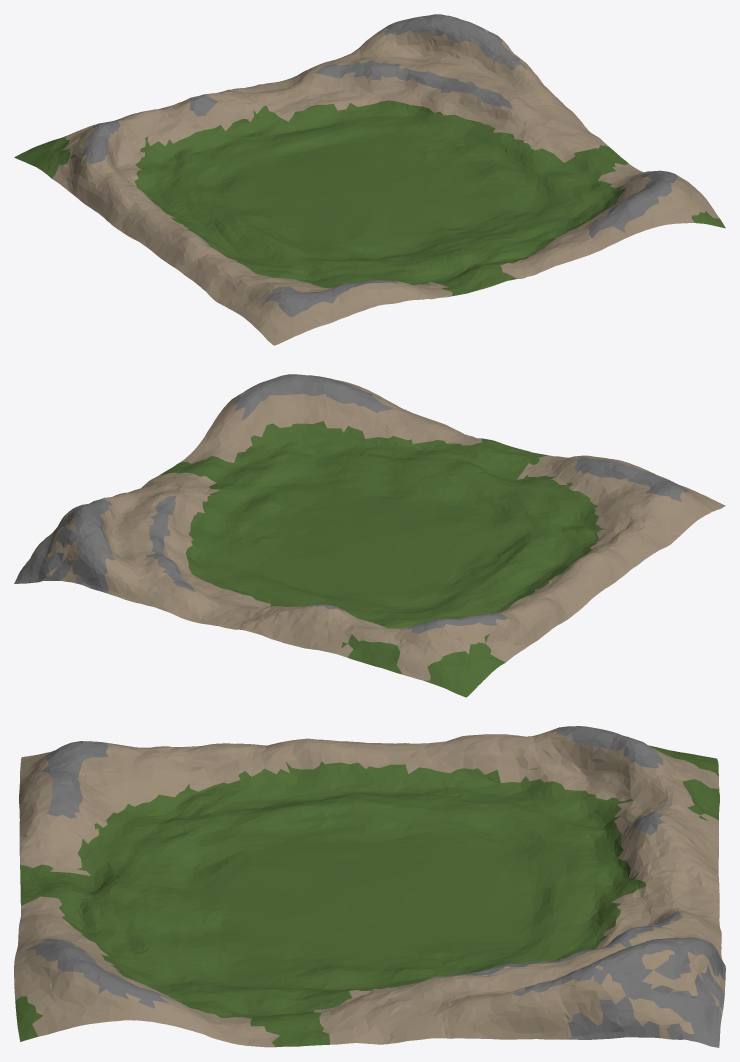
File: T_Terrain_Final.fbx
3 renders of one model, top to bottom at view 1: azimuth 30°, elevation 25°; view 2: azimuth 150°, elevation 25°; view 3: azimuth 270°, elevation 25°, orthographic. The views are drawn at different scales.
Parts seen in each view (by area): view 1: Terrain; view 2: Terrain; view 3: Terrain.
Boxes of the visible parts, box(x1,y1,x2,y2) form: Terrain: box(14, 14, 725, 345); Terrain: box(14, 374, 725, 697); Terrain: box(14, 726, 725, 1047).
Size of the model in its own units: 50.72 by 6.36 by 51.1.
